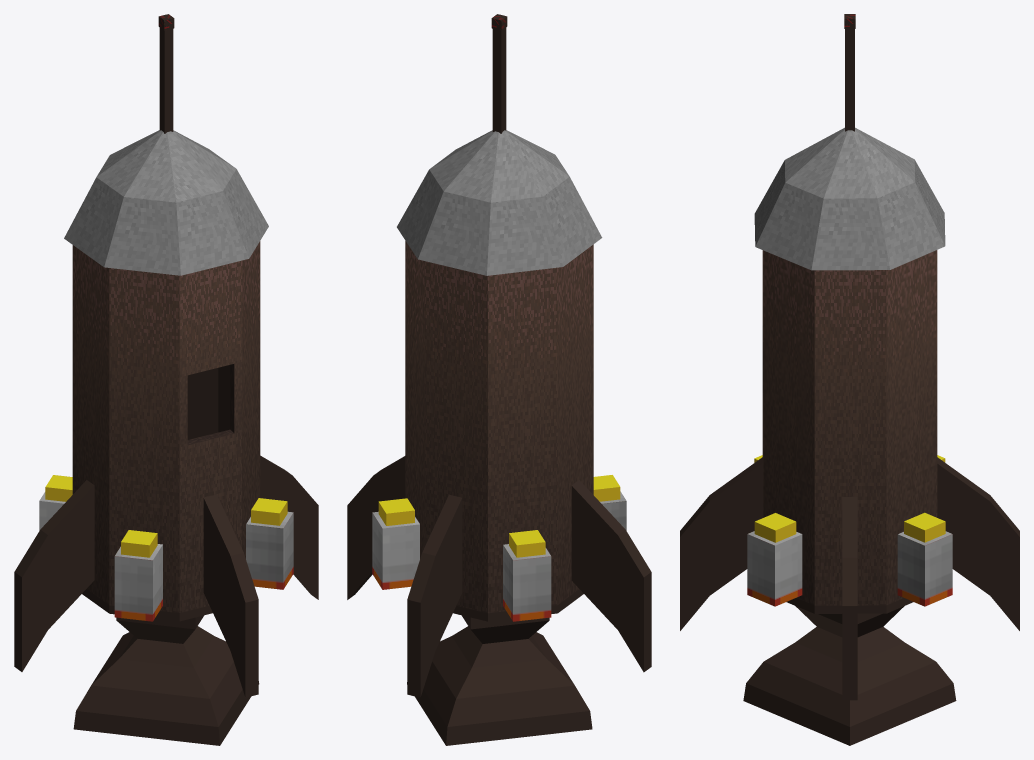
The model's file is tier6rocket.obj.
The picture shows the model from 3 angles, left to right: view 1: azimuth 30°, elevation 25°; view 2: azimuth 150°, elevation 25°; view 3: azimuth 270°, elevation 25°; orthographic projection.
Visible parts, largest first — view 1: Rocket, NoseCone, Boosters; view 2: Rocket, NoseCone, Boosters; view 3: Rocket, NoseCone, Boosters.
Part boxes in pixels (<box>): Rocket: <box>14,27,318,745</box>; NoseCone: <box>64,130,268,275</box>; Boosters: <box>39,475,293,621</box>; Rocket: <box>347,27,651,745</box>; NoseCone: <box>397,130,602,275</box>; Boosters: <box>372,475,626,621</box>; Rocket: <box>680,29,1019,745</box>; NoseCone: <box>754,127,945,270</box>; Boosters: <box>747,455,952,606</box>.
Bounding box in the file's own units: 3.61 × 8.02 × 3.61.
